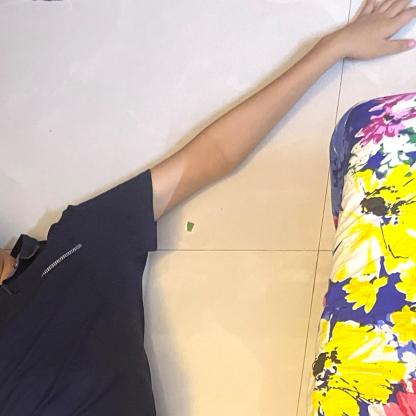hand: (169, 0, 416, 181)
